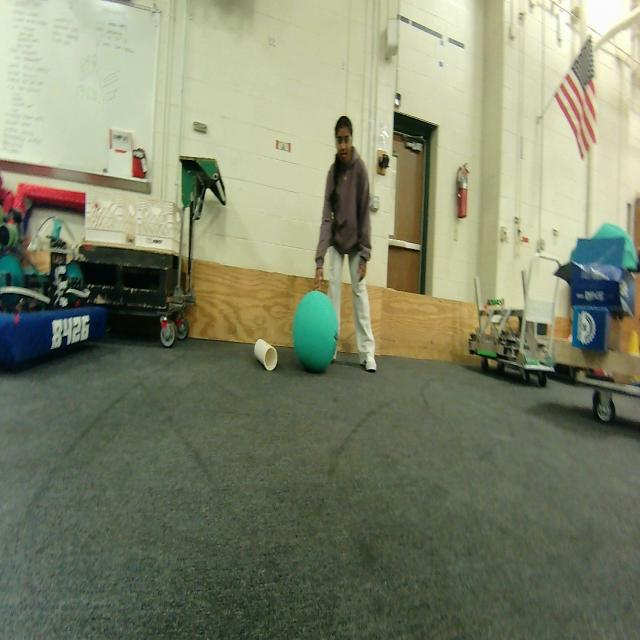algae: (292, 290, 338, 373)
